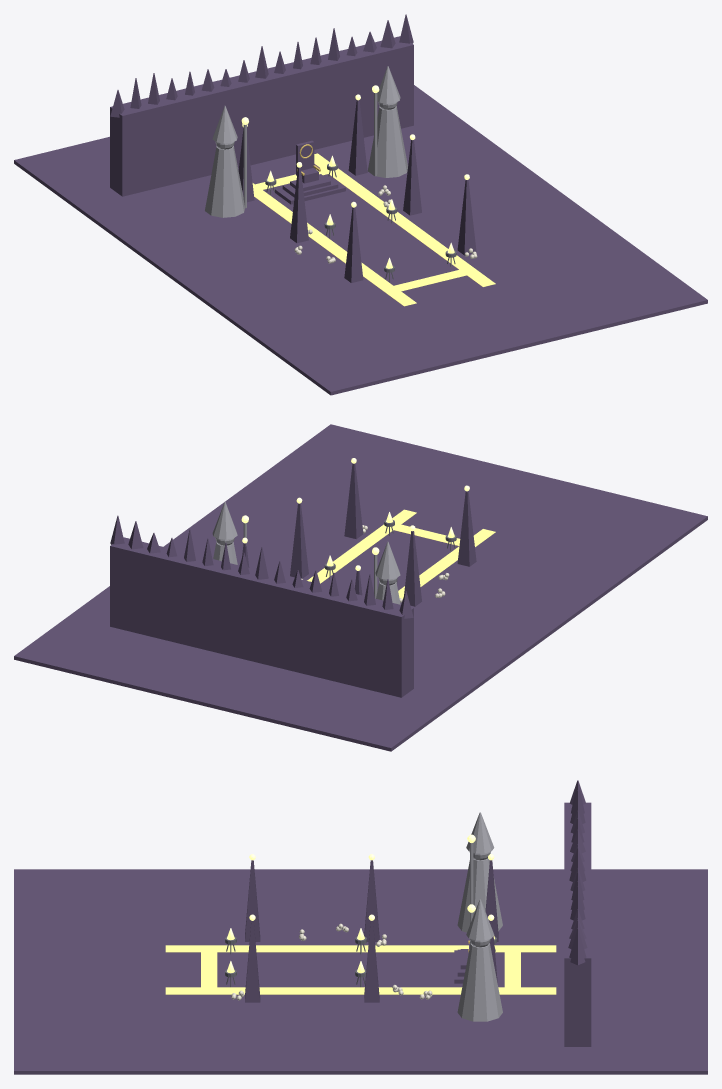
Rendered from sanctum.glb.
3 renders of one model, top to bottom at view 1: azimuth 30°, elevation 25°; view 2: azimuth 150°, elevation 25°; view 3: azimuth 270°, elevation 25°, orthographic. The views are drawn at different scales.
Parts seen in each view (by area): view 1: Env_Obsidian, Env_Stone.002, Env_Lava, Env_Flame.002; view 2: Env_Obsidian, Env_Lava, Env_Stone.002; view 3: Env_Obsidian, Env_Lava, Env_Stone.002, Env_Flame.002, Env_Bone, Env_Metal.001.
Boxes of the visible parts, x1,y1,x2,y2 form: Env_Obsidian: (14, 14, 707, 395); Env_Stone.002: (205, 66, 407, 217); Env_Lava: (252, 153, 495, 306); Env_Flame.002: (241, 85, 469, 268); Env_Obsidian: (14, 424, 707, 751); Env_Lava: (307, 509, 495, 599); Env_Stone.002: (212, 502, 400, 604); Env_Obsidian: (14, 780, 707, 1074); Env_Lava: (165, 945, 556, 994); Env_Stone.002: (457, 812, 502, 1021); Env_Flame.002: (227, 834, 494, 973); Env_Bone: (231, 923, 432, 1000); Env_Metal.001: (225, 936, 496, 987).
Bounding box in the file's own units: 44 × 12.86 × 64.
